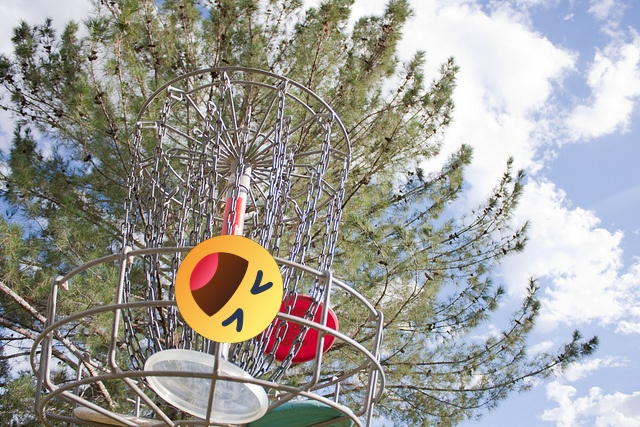haha: (175, 235, 283, 343)
